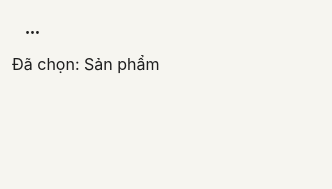
Test: shows the selected destination after choosing a dropdown item
Click the button named "Chọn module".
click(32, 32)  # box left=12, top=12, right=52, bottom=52
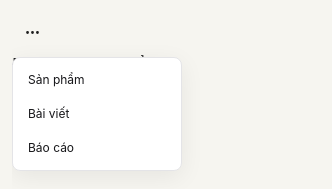
Click the menu item "Báo cáo".
click(51, 148)  # box left=28, top=140, right=74, bottom=155
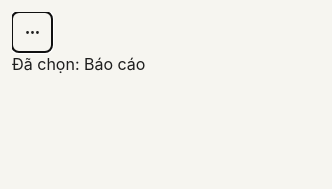
Expected: the message reads "Đã chọn: Báo cáo", left=12, top=54, right=145, bottom=74
